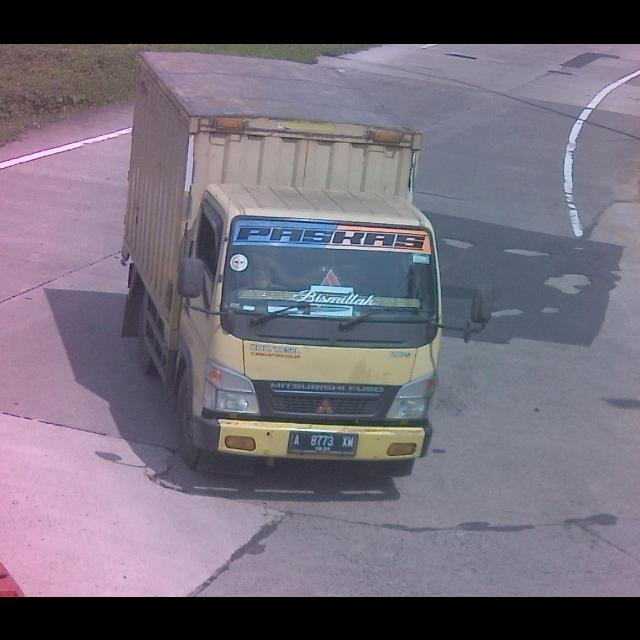plate: (288, 427, 358, 455)
